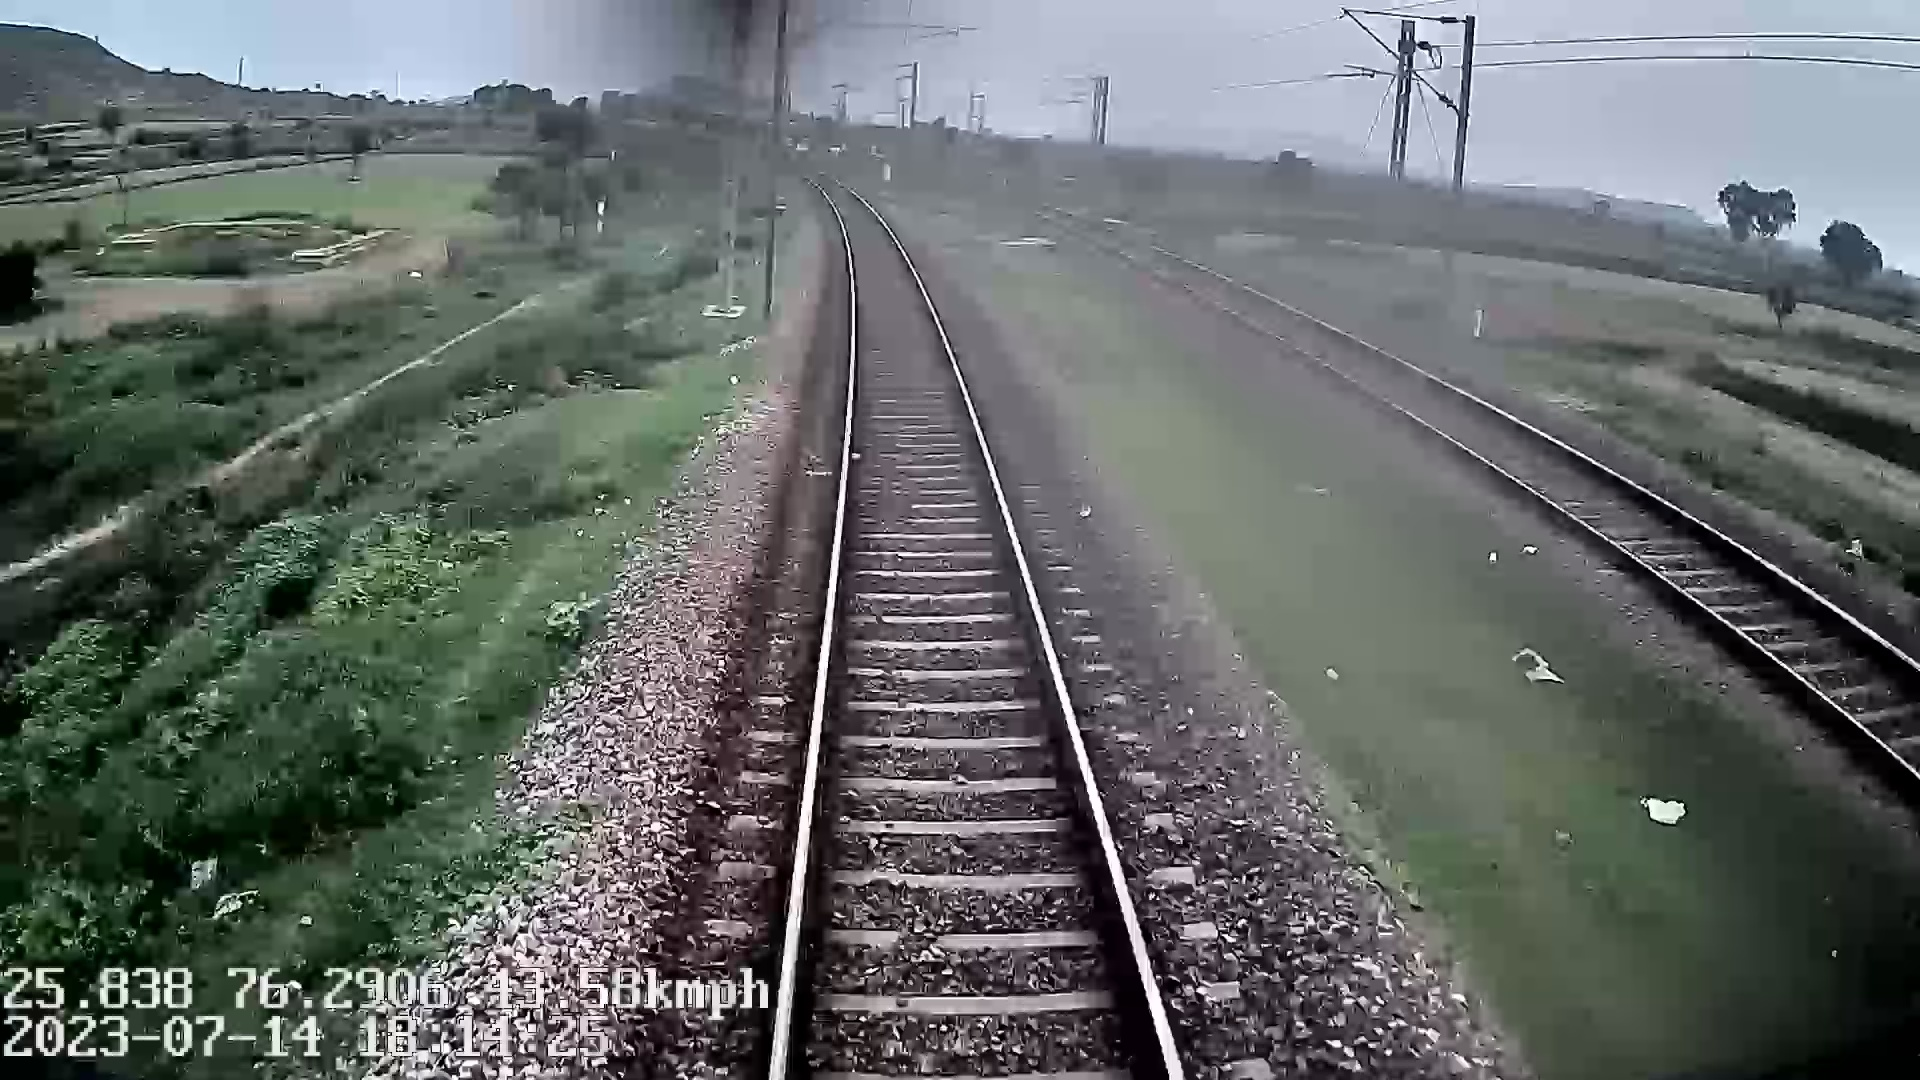track1: (778, 200, 1171, 1062)
track2: (1153, 268, 1912, 756)
